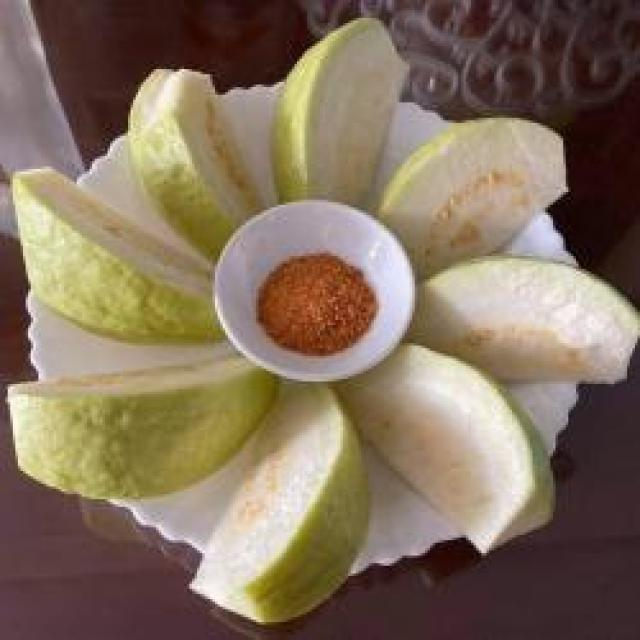oi: (335, 343, 553, 550), (189, 387, 369, 622), (13, 358, 276, 497), (15, 172, 220, 338), (379, 118, 566, 276), (407, 256, 637, 381), (131, 72, 251, 256), (289, 26, 404, 205)
